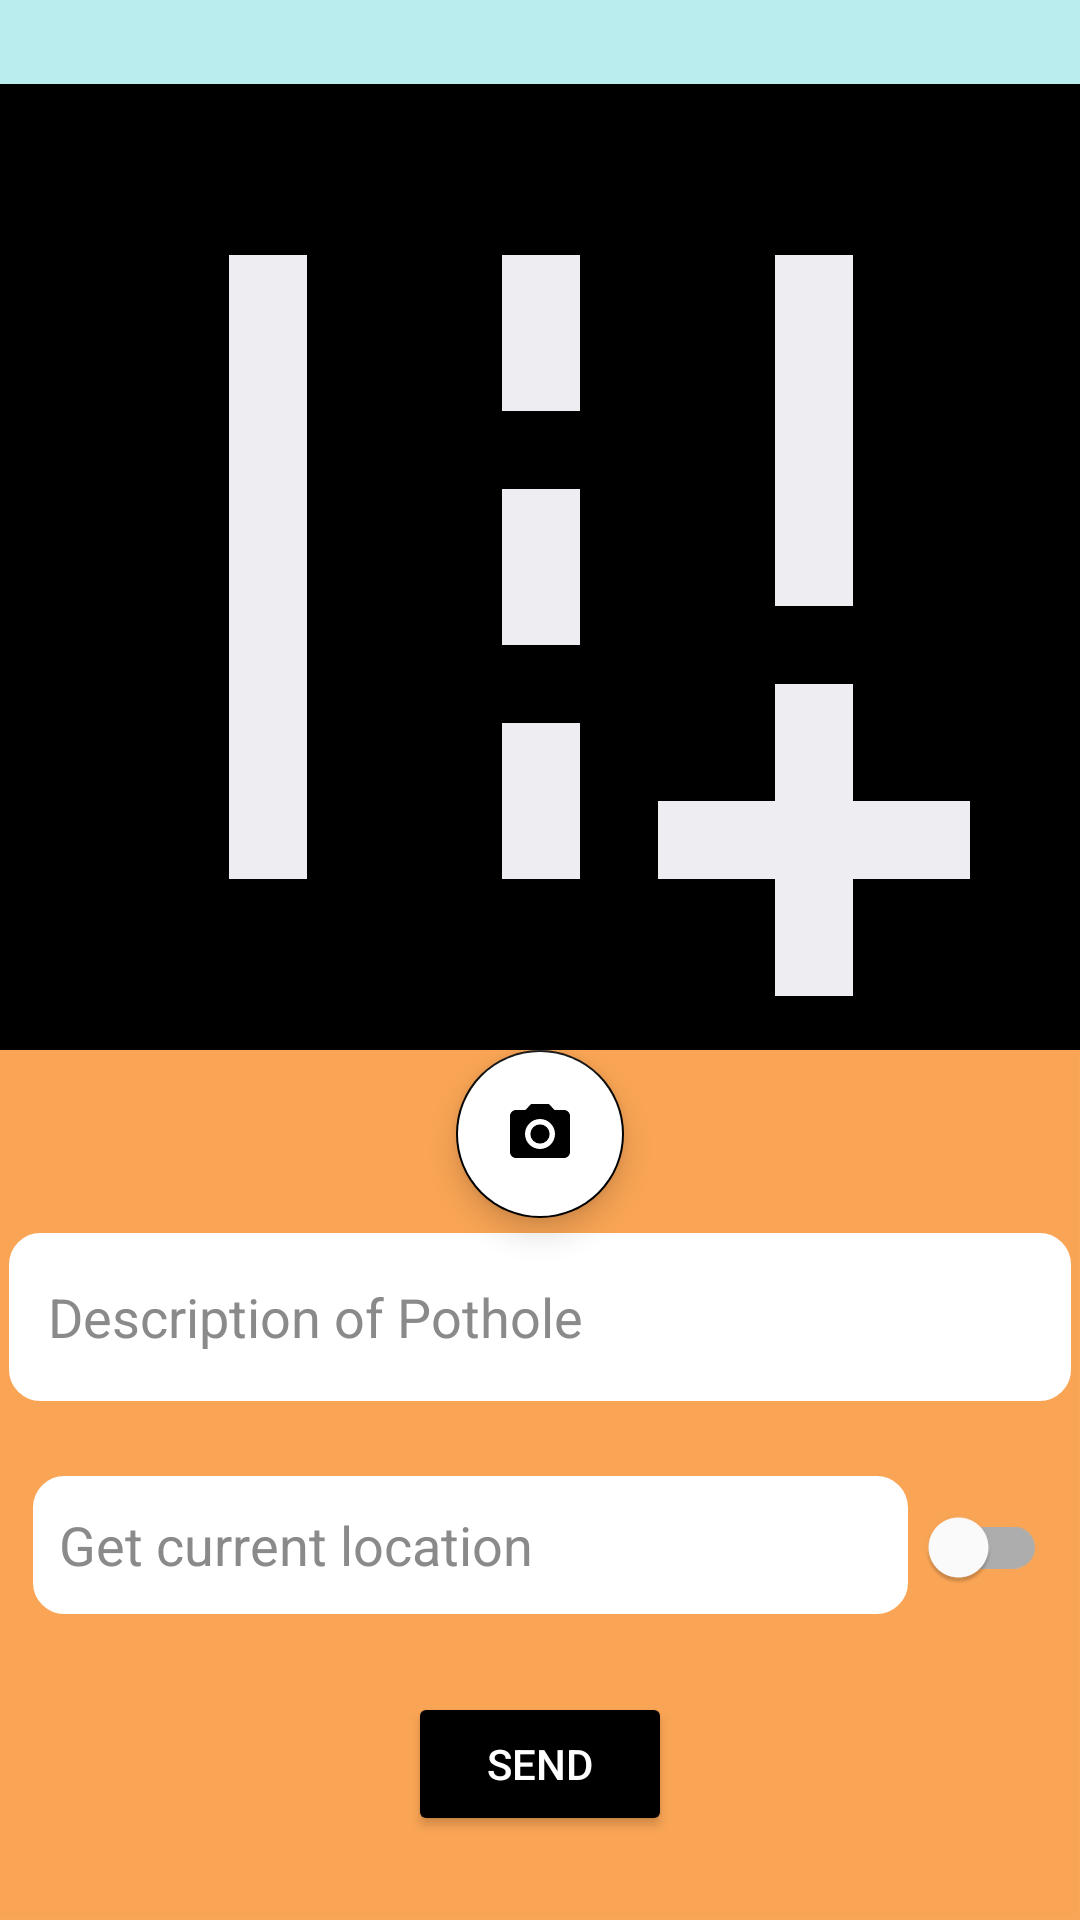

Screen size 1080 × 1920. Icon name, then its center in pixels as point (x, y):
camera: point (540, 1134)
